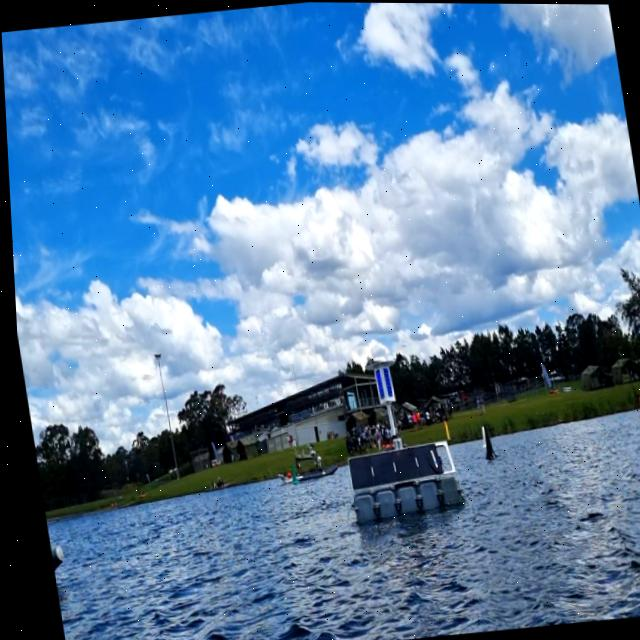led: (377, 366, 390, 400), (370, 367, 381, 400)
